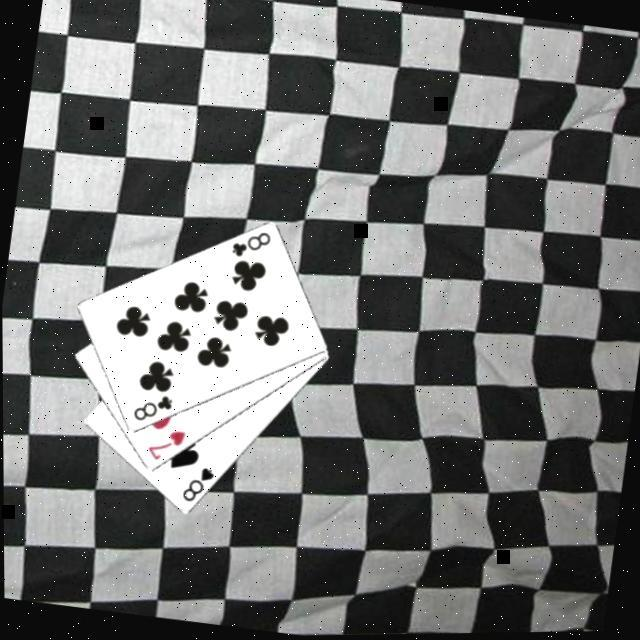7H: (140, 425, 186, 469)
8C: (127, 390, 173, 431), (226, 226, 272, 266)
8S: (174, 464, 216, 510)
